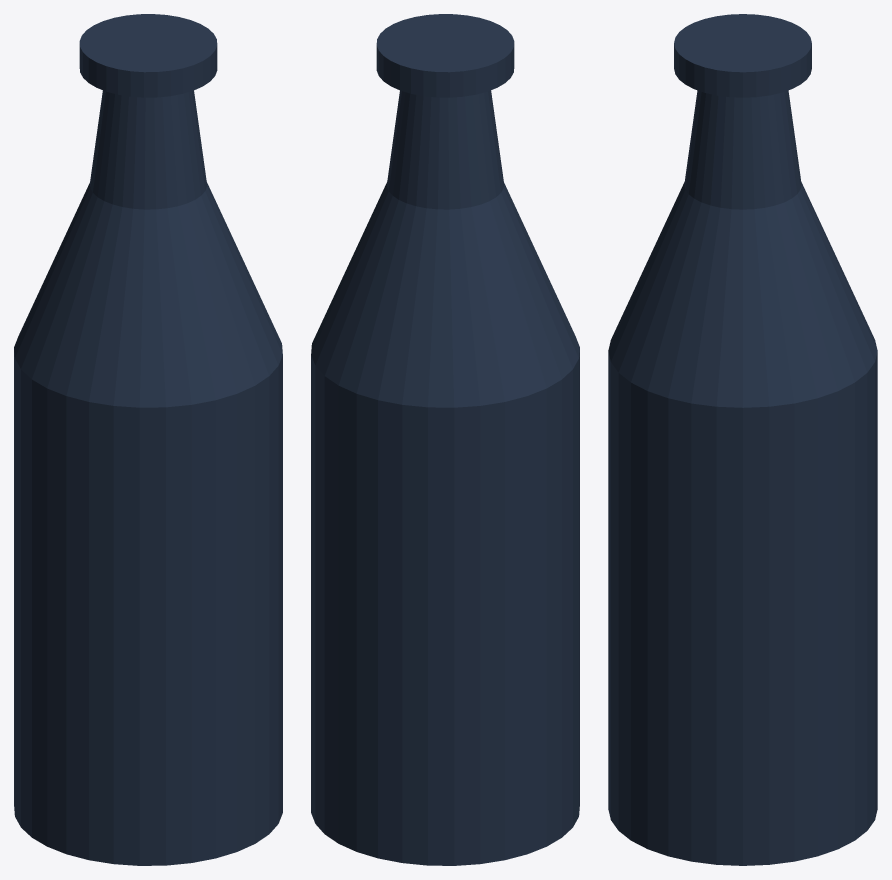
Rendered from envi7.fbx.
The picture shows the model from 3 angles, left to right: view 1: azimuth 30°, elevation 25°; view 2: azimuth 150°, elevation 25°; view 3: azimuth 270°, elevation 25°; orthographic projection.
Parts seen in each view (by area): view 1: Cylinder; view 2: Cylinder; view 3: Cylinder.
Boxes of the visible parts, <box> form: Cylinder: <box>14,14,282,865</box>; Cylinder: <box>311,14,579,865</box>; Cylinder: <box>608,14,877,865</box>.
Bounding box in the file's own units: 36.05 × 113 × 36.05.
